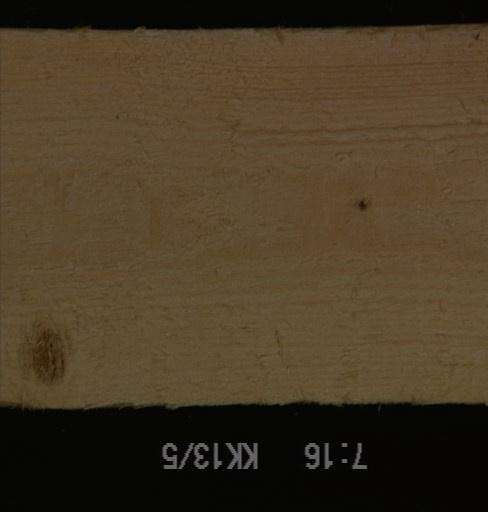small_knot: (353, 193, 374, 216)
sound_knot: (25, 326, 69, 387)
